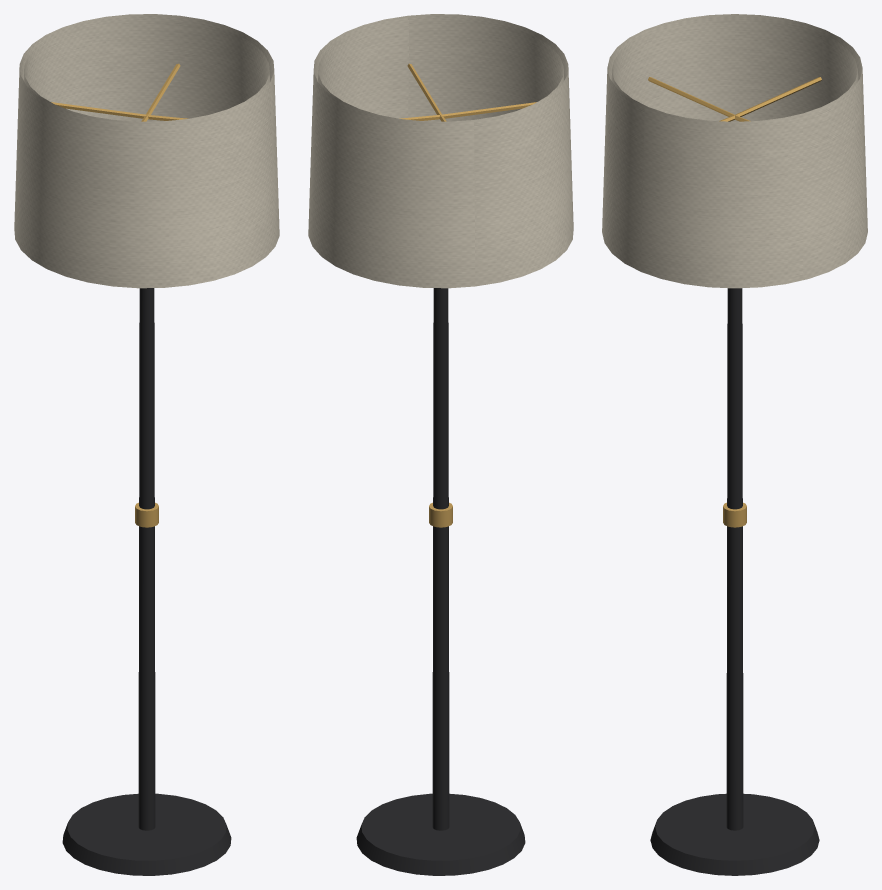
File: floor_lamp.glb
3 renders of one model, left to right at view 1: azimuth 30°, elevation 25°; view 2: azimuth 150°, elevation 25°; view 3: azimuth 270°, elevation 25°, orthographic.
Parts seen in each view (by area): view 1: floor_lamp; view 2: floor_lamp; view 3: floor_lamp.
Part boxes in pixels (bbox=[...]): floor_lamp: bbox=[14, 14, 279, 875]; floor_lamp: bbox=[308, 14, 573, 875]; floor_lamp: bbox=[602, 14, 867, 875].
Size of the model in its own units: 2.2 by 7.05 by 2.2.
4 materials, 1 textured.
